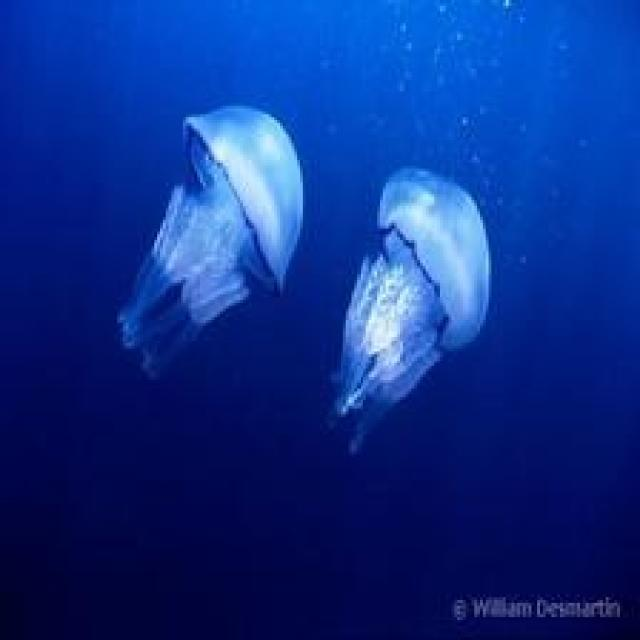Moon-jellyfish: (115, 100, 303, 380), (320, 163, 492, 457)
